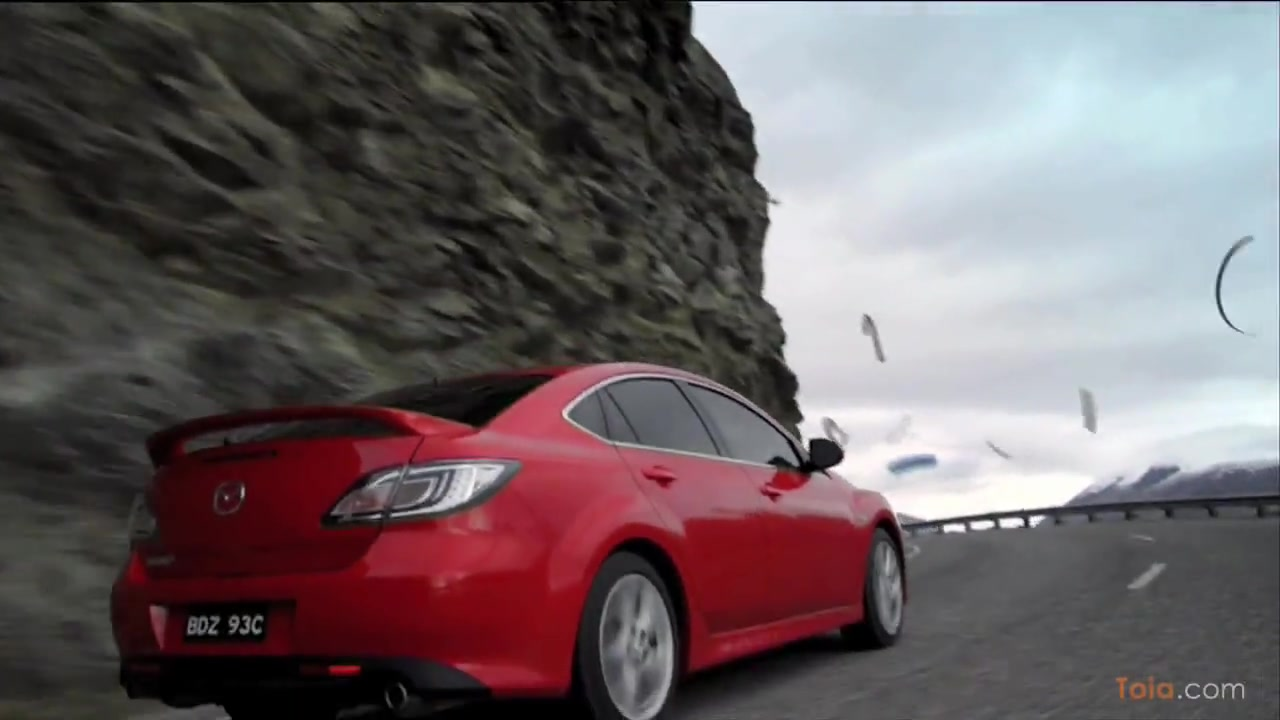car: (106, 359, 913, 719)
